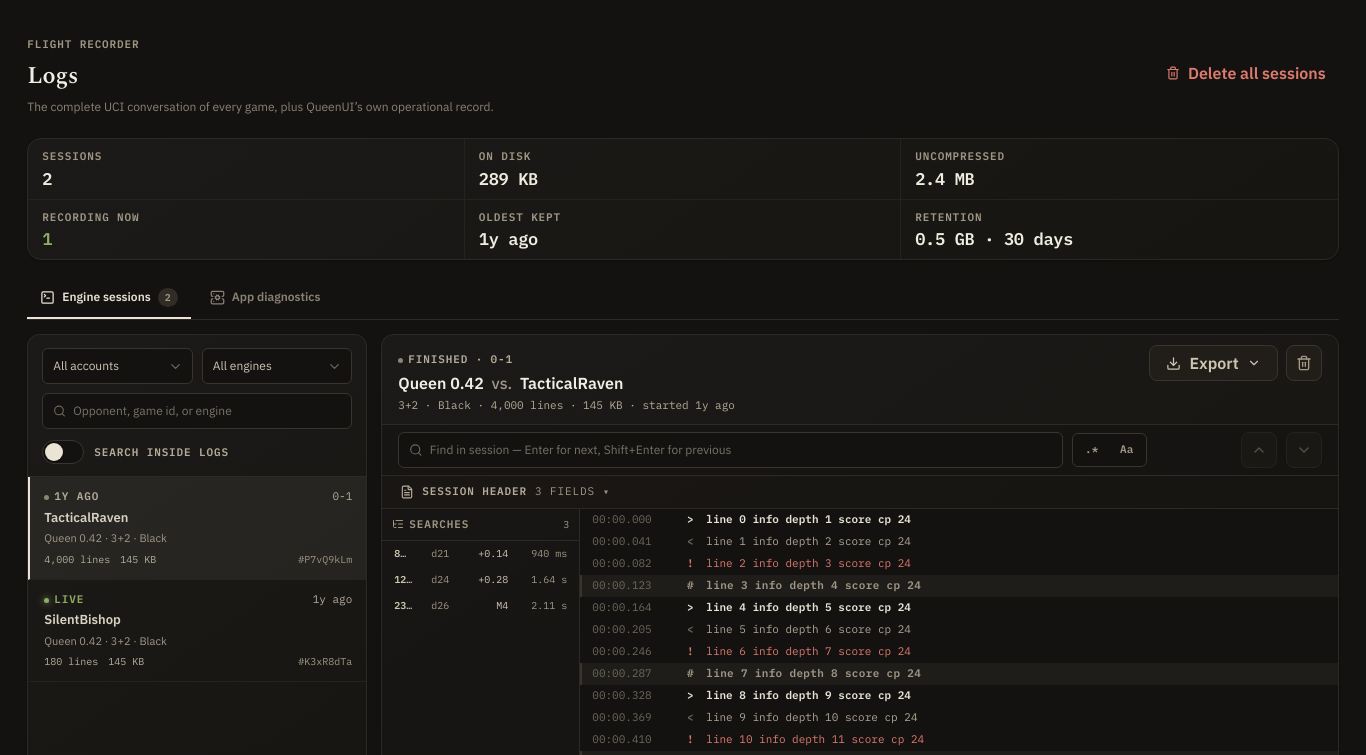
Scenario: LogsPage session selection › keeps the open session while the filter is typed
Check: the text "line 0 info depth 1 score cp 24" is shown, box [706,512,911,526]
Note: Open the second session explicitly.
Click the text "SilentBishop" at (83, 620), box [44,611,121,628]
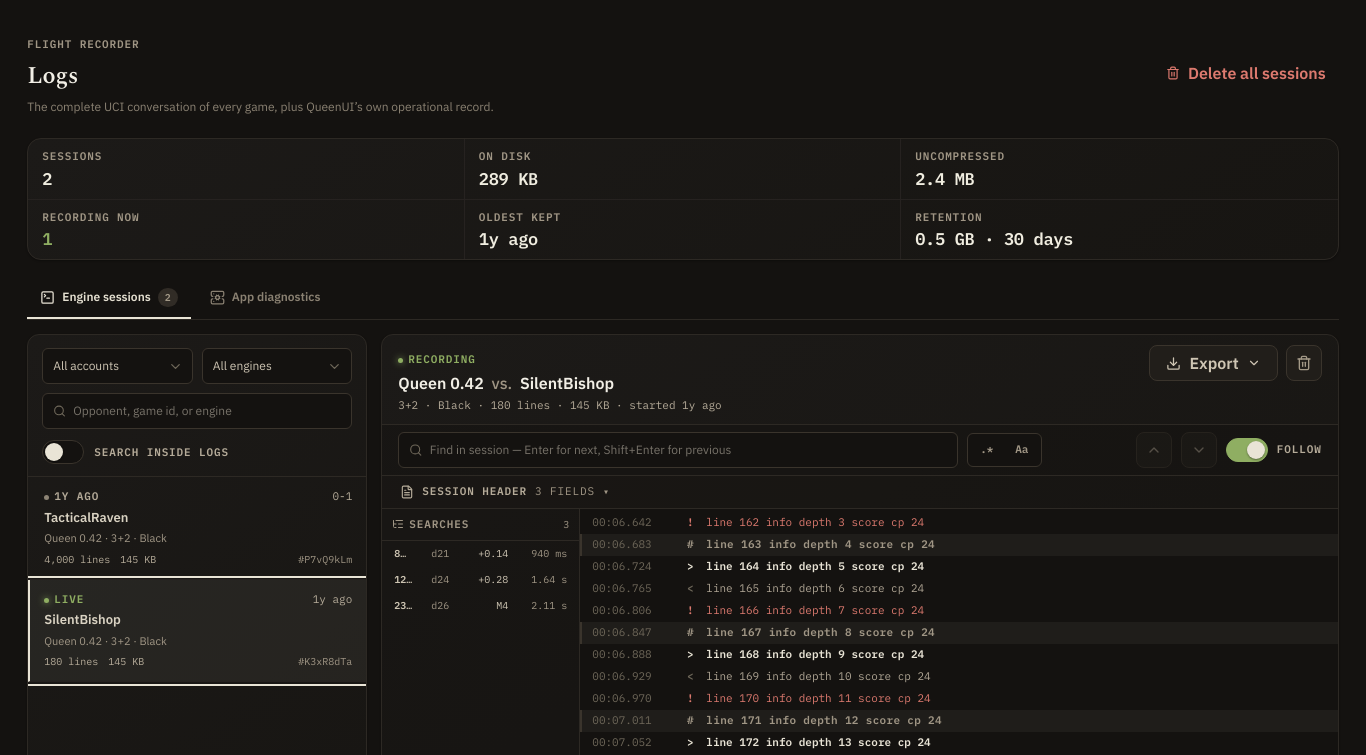
Check: the heading "Queen 0.42 vs. SilentBishop" is shown, box [398,373,614,393]
Type "Raven" into the field named "Filter sessions" at (207, 411), box [73,402,341,420]
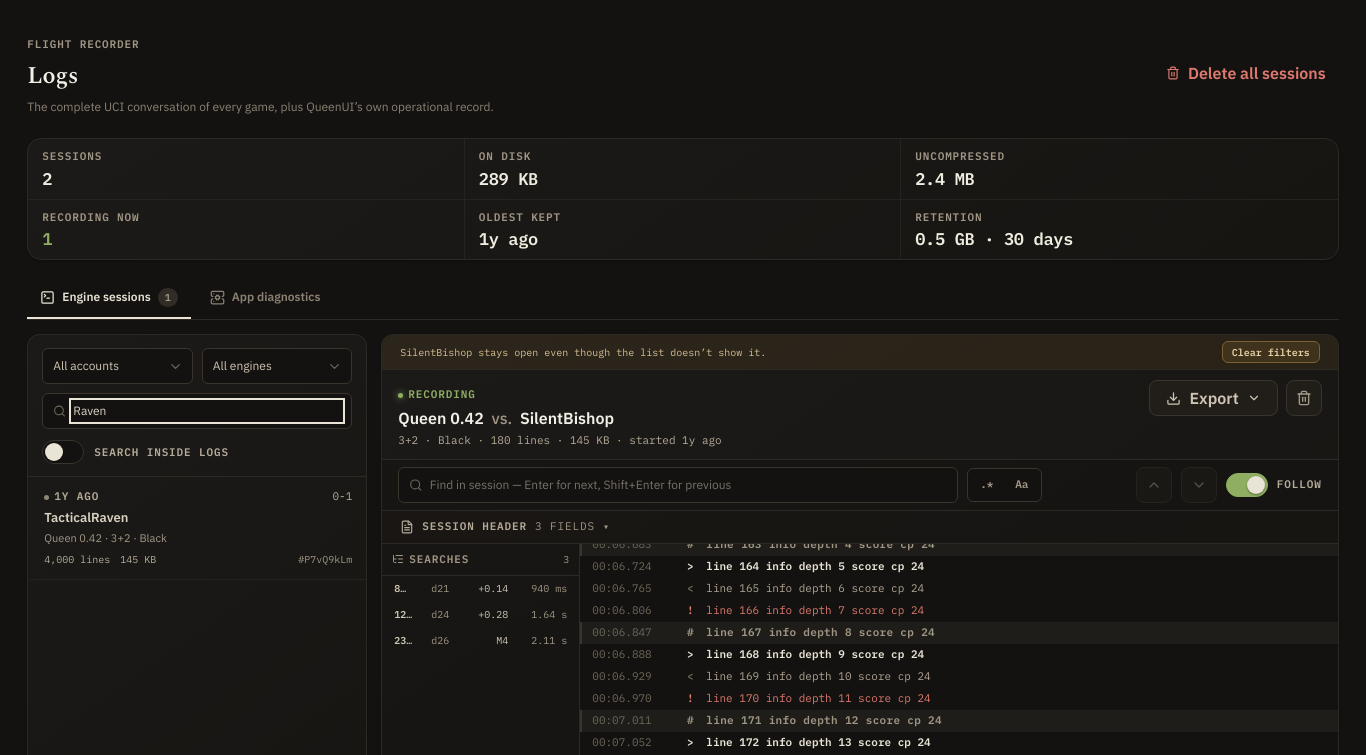
Check: the heading "Queen 0.42 vs. SilentBishop" is shown, box [398,408,614,428]
Check: the text "stays open even though the list" is shown, box [472,346,766,358]
